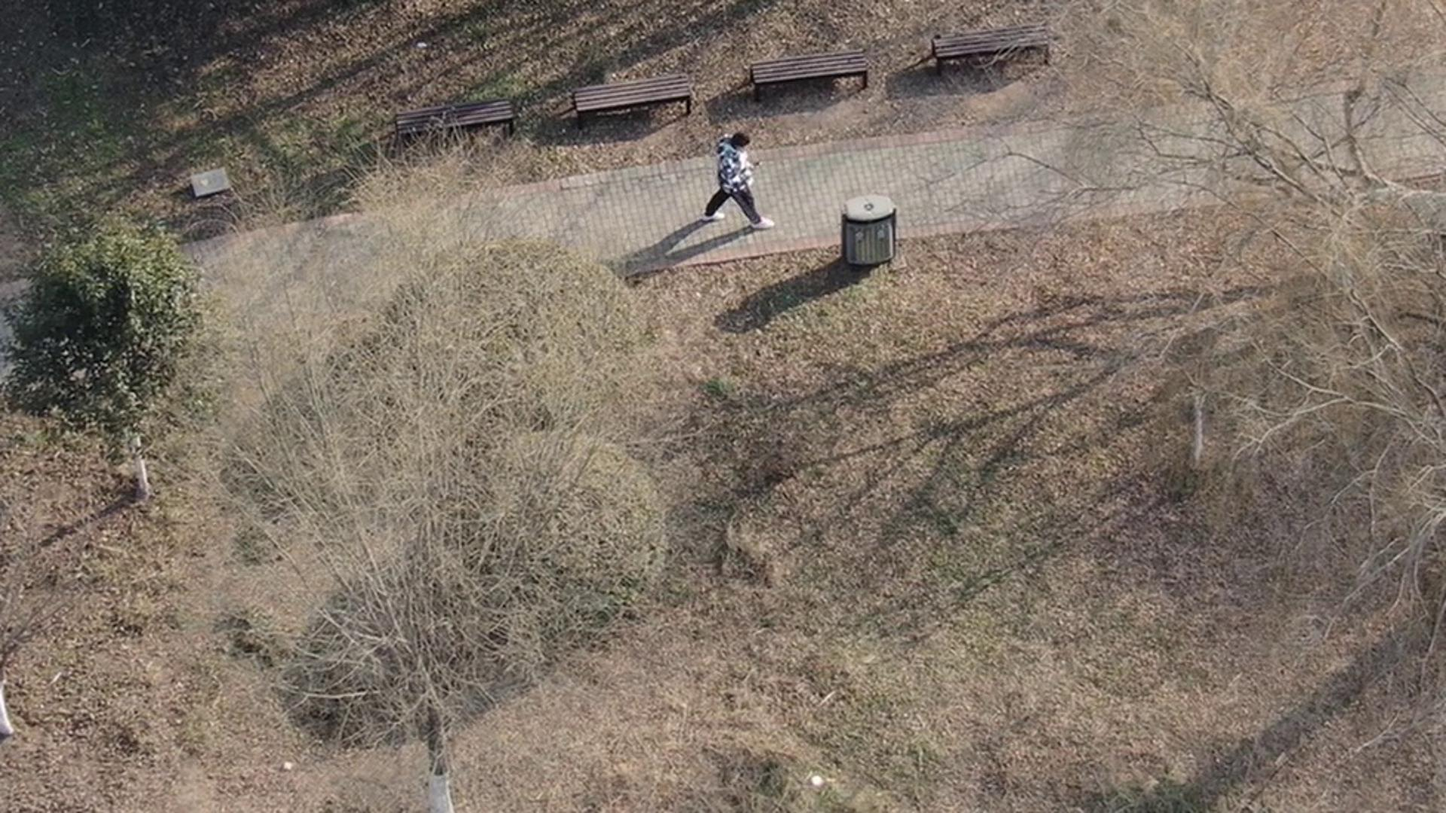human: (700, 145, 776, 257)
